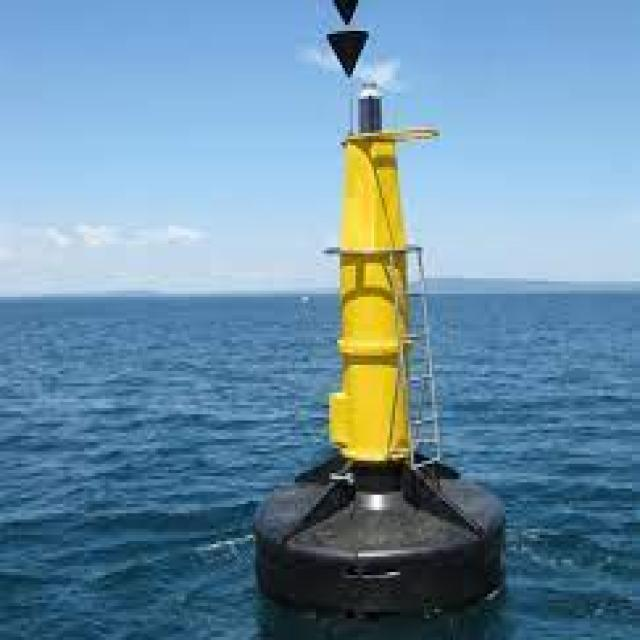marque: (224, 5, 531, 638)
